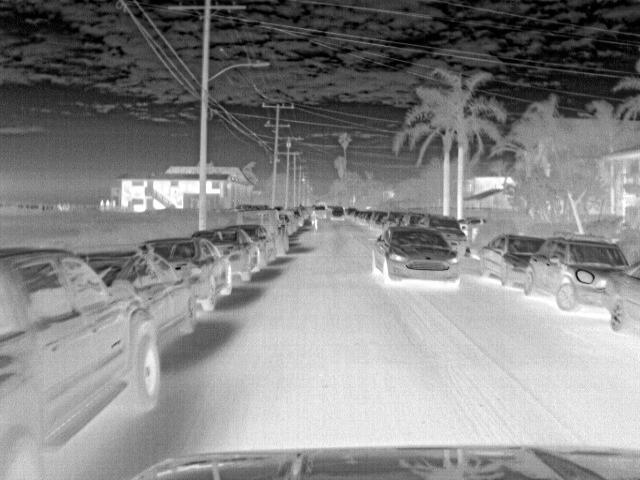car: (3, 243, 165, 474), (80, 248, 205, 354), (516, 237, 630, 315), (137, 236, 232, 312), (370, 224, 461, 288), (192, 228, 264, 284), (478, 232, 547, 288), (602, 259, 640, 332), (236, 208, 289, 260), (414, 214, 468, 260), (227, 225, 278, 270), (461, 218, 491, 236), (328, 206, 347, 222)
person: (310, 206, 322, 232), (99, 197, 107, 211), (104, 197, 112, 210), (111, 196, 118, 210)
